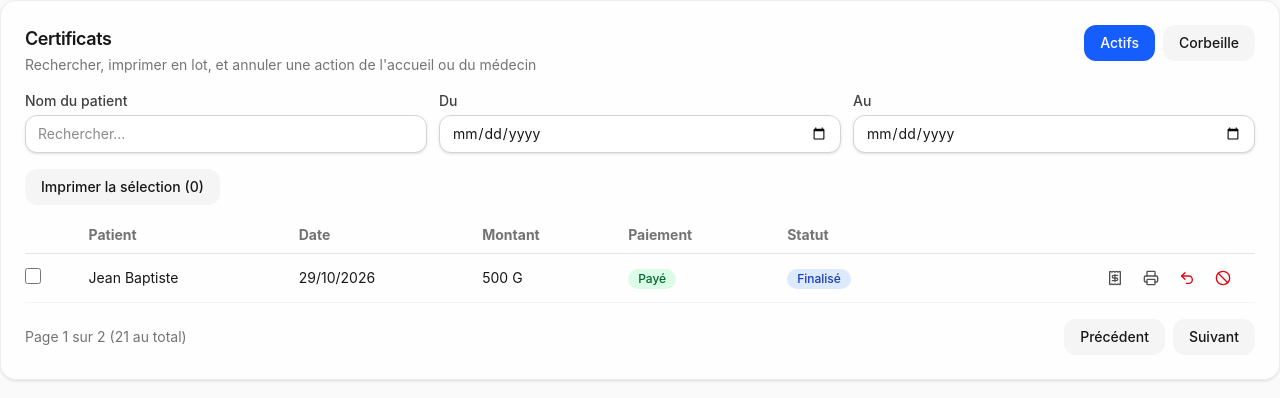
Scenario: CertificatesPage › shows pagination controls and fetches the next page when results exceed one page
Expected: the text "Page 1 sur 2 (21 au total)" is shown, [25,327,187,347]
Expected: the button "Précédent" is disabled, [1064,319,1165,355]
Click the button "Suivant" at coordinates (1214, 337), box [1173,319,1255,355]
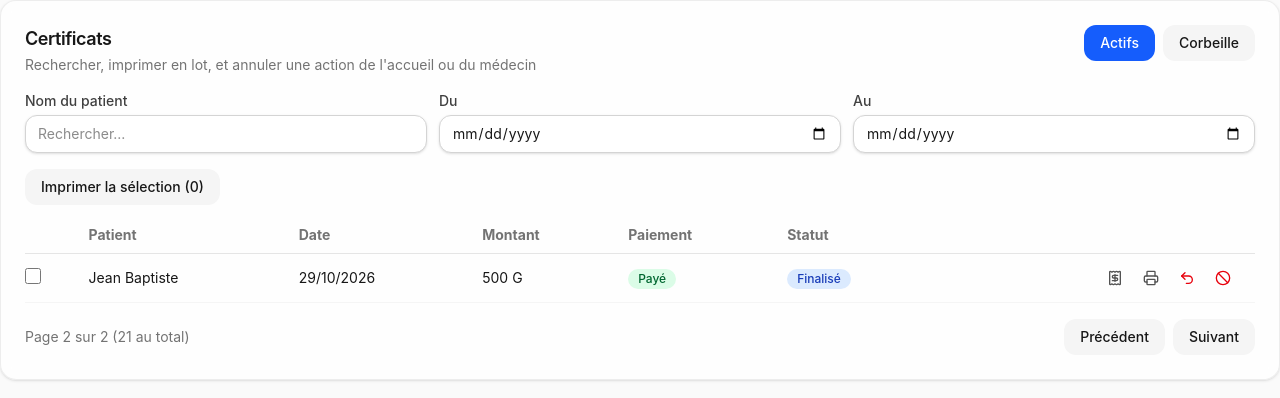
Expected: the text "Page 2 sur 2 (21 au total)" is shown, [25,327,190,347]
